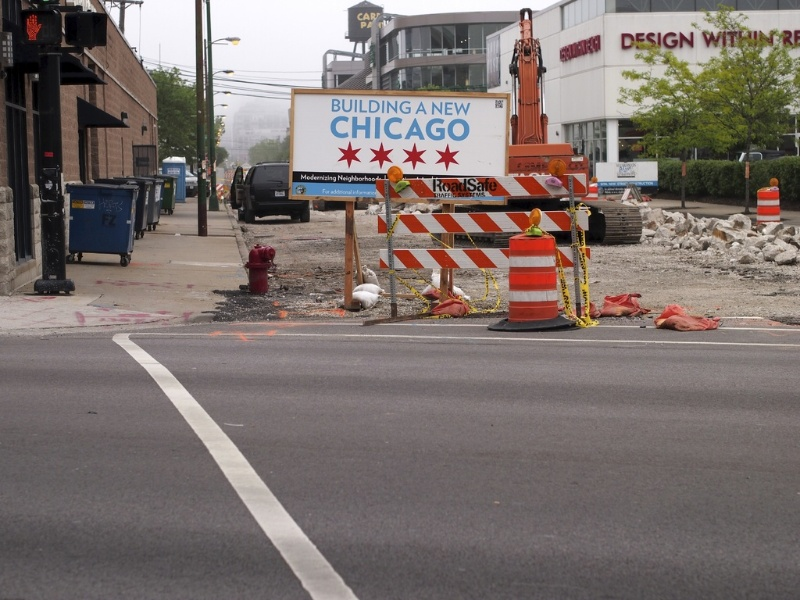red_light: (9, 10, 58, 54)
